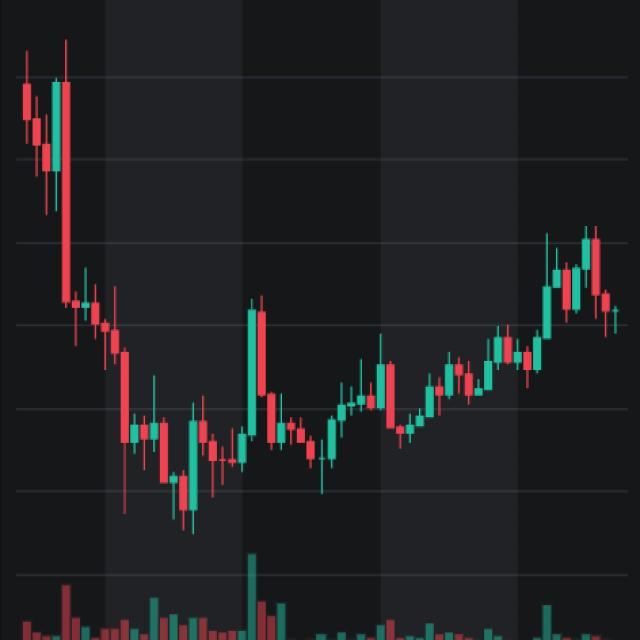Channel-up: (142, 186, 629, 567)
